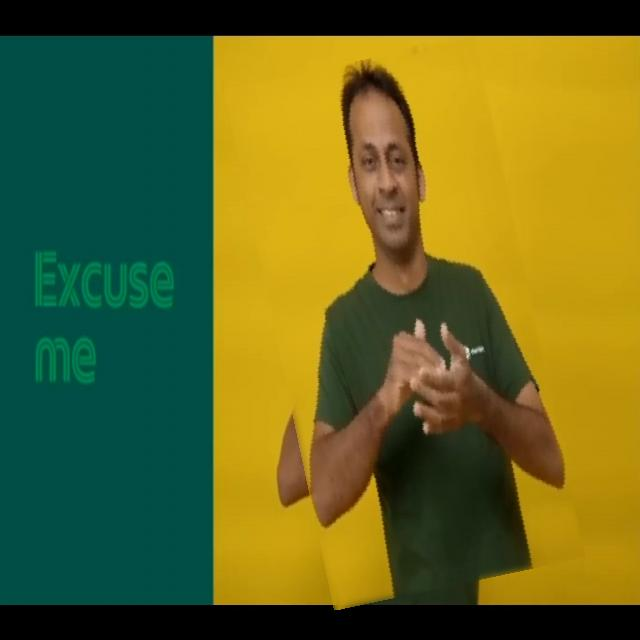ExcuseMe: (250, 47, 559, 600)
